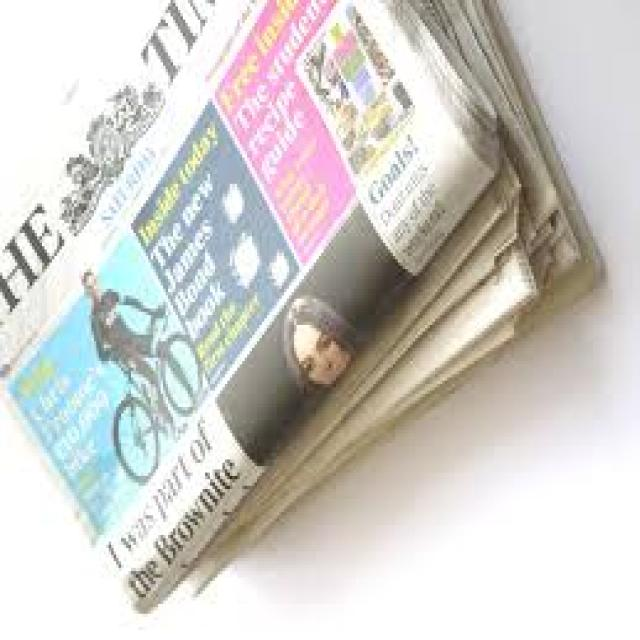paper: (0, 0, 600, 600), (2, 0, 496, 610), (188, 161, 598, 581)
